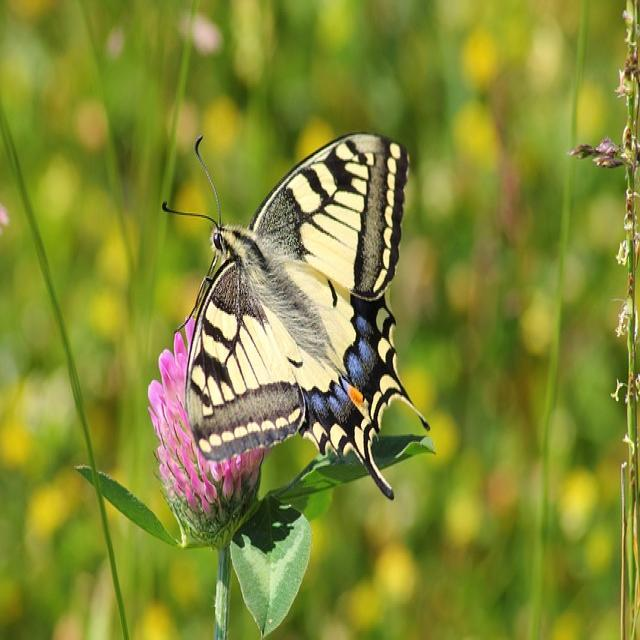butterfly: (186, 133, 412, 497)
